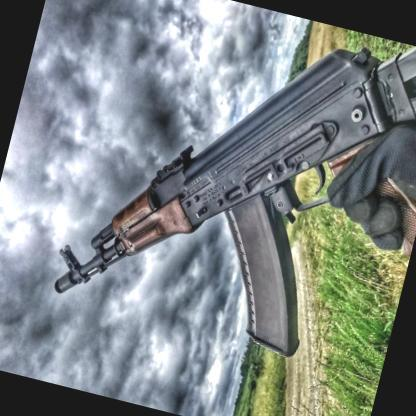rifle: (33, 0, 416, 396)
